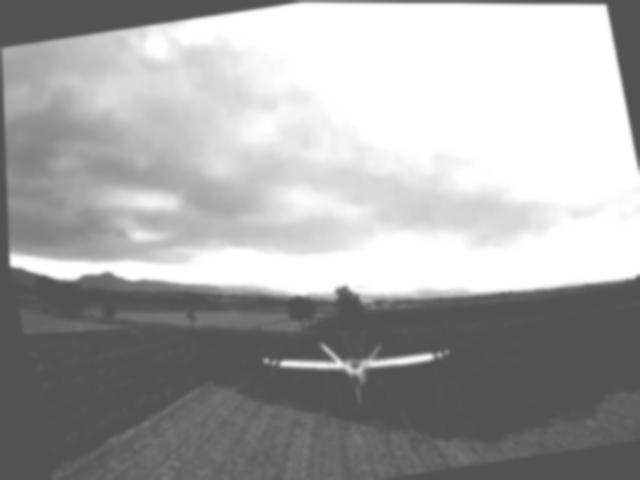hedef: (247, 303, 460, 430)
